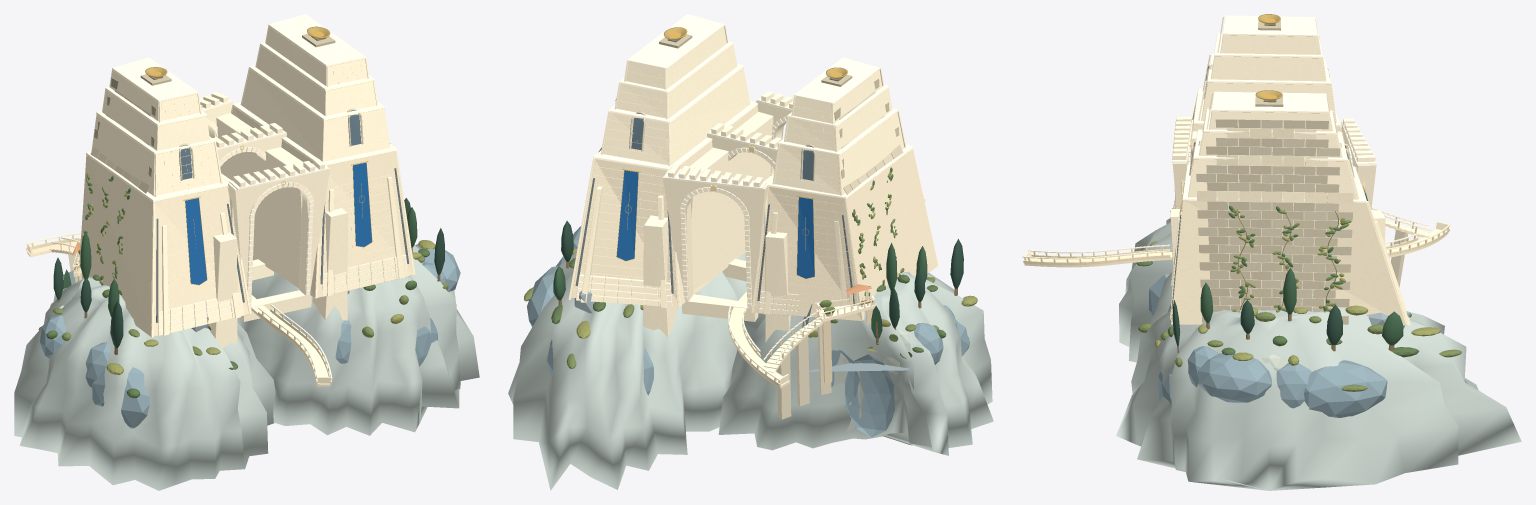
The model's file is highland-gate-r30.glb.
3 views of the same model, side by side, from view 1: azimuth 30°, elevation 25°; view 2: azimuth 150°, elevation 25°; view 3: azimuth 270°, elevation 25° (orthographic). The views are drawn at different scales.
Visible parts, largest first — view 1: highland-Gate_stone.016_solid, highland-gate-rock-foundation--1, highland-gate-rock-foundation-1, highland-Gate_brick.016_solid, highland-Gate_edge.016_solid, highland-merged-decoration (×6), highland-Gate_cloth.016_detail, highland-Gate_dark.016_solid, highland-Gate_gold.016_detail; view 2: highland-Gate_stone.016_solid, highland-gate-rock-foundation-1, highland-gate-rock-foundation--1, highland-Gate_brick.016_solid, highland-merged-decoration (×7), highland-Gate_edge.016_solid, highland-Gate_cloth.016_detail, highland-stair-pier (×2), highland-Gate_dark.016_solid, highland-Gate_rock.016_solid, highland-Gate_gold.016_detail, highland-terrace-foundation; view 3: highland-gate-rock-foundation-1, highland-merged-decoration (×12), highland-Gate_stone.016_solid, highland-Gate_brick.016_solid, highland-Gate_edge.016_solid, highland-gate-rock-foundation--1.
Part boxes in pixels (x1,y1,x2,y2): highland-Gate_stone.016_solid: (82, 26, 415, 348); highland-gate-rock-foundation--1: (14, 276, 275, 490); highland-gate-rock-foundation-1: (245, 244, 479, 435); highland-Gate_brick.016_solid: (78, 107, 415, 336); highland-Gate_edge.016_solid: (86, 14, 397, 307); highland-merged-decoration (×6): (38, 198, 460, 428); highland-Gate_cloth.016_detail: (185, 162, 371, 284); highland-Gate_dark.016_solid: (149, 36, 409, 322); highland-Gate_gold.016_detail: (150, 31, 372, 285); highland-Gate_stone.016_solid: (568, 14, 938, 342); highland-gate-rock-foundation-1: (508, 247, 746, 490); highland-gate-rock-foundation--1: (718, 272, 993, 455); highland-Gate_brick.016_solid: (571, 106, 937, 320); highland-merged-decoration (×7): (524, 221, 977, 437); highland-Gate_edge.016_solid: (593, 14, 913, 308); highland-Gate_cloth.016_detail: (616, 170, 814, 278); highland-stair-pier (×2): (777, 335, 809, 419); highland-Gate_dark.016_solid: (575, 38, 854, 305); highland-Gate_rock.016_solid: (574, 291, 908, 371); highland-Gate_gold.016_detail: (616, 32, 841, 278); highland-terrace-foundation: (822, 320, 832, 383); highland-gate-rock-foundation-1: (1116, 304, 1521, 490); highland-merged-decoration (×12): (1136, 119, 1461, 417); highland-Gate_stone.016_solid: (1170, 16, 1410, 325); highland-Gate_brick.016_solid: (1171, 103, 1406, 325); highland-Gate_edge.016_solid: (1172, 15, 1377, 208); highland-gate-rock-foundation--1: (1119, 218, 1172, 362).
Size of the model in its own units: 68.89 by 54.32 by 70.34.
342 materials, 12 textured.
